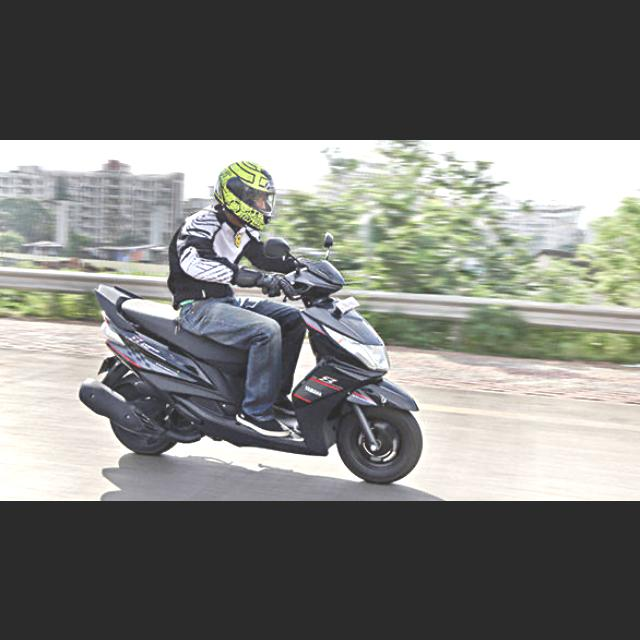With Helmet: (208, 150, 284, 236)
